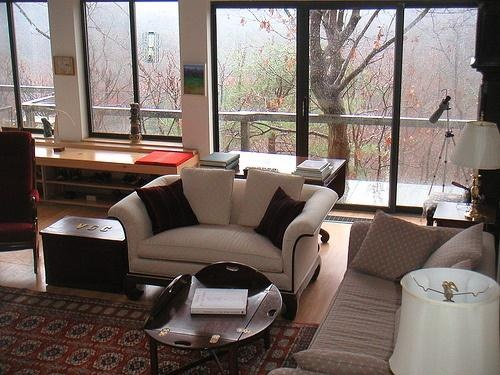chair: (3, 129, 41, 276)
sofa: (269, 209, 496, 375), (107, 167, 338, 321)
